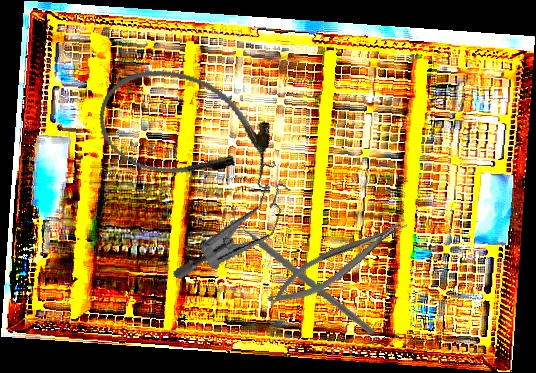Cannula: (87, 55, 283, 200)
Chopper: (218, 204, 388, 335)
Needle Holder: (259, 211, 417, 316)
Speculum: (171, 141, 300, 305)
